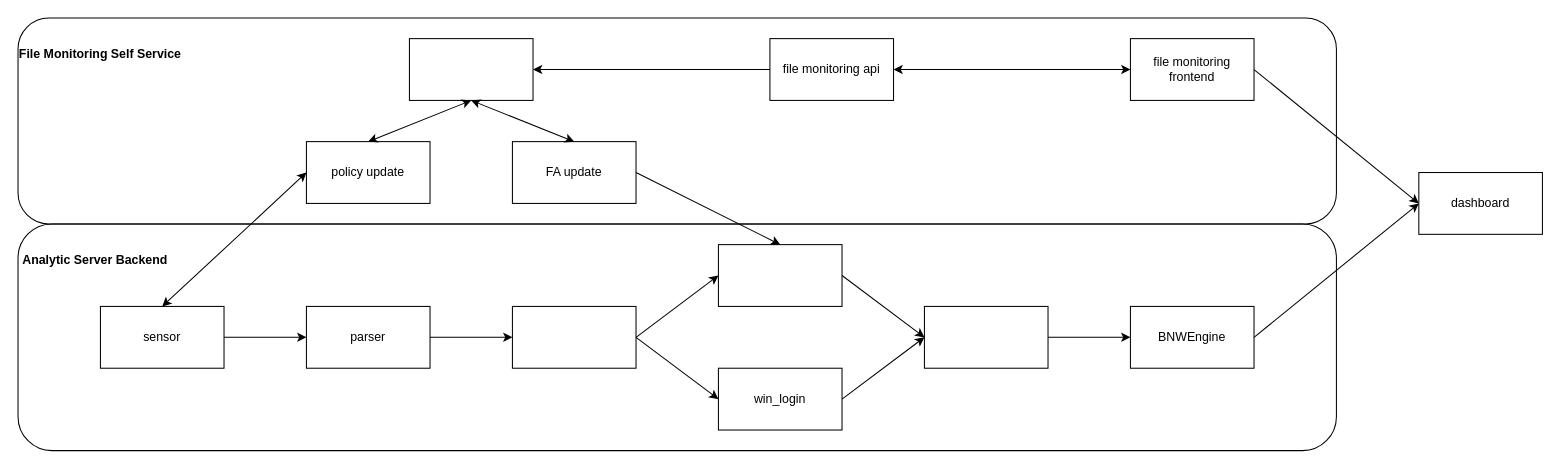
Image size: 1560x469. Some labels were removed from this diagram. Each missing label, with the box of its shape:
alerts worker: (923, 305, 1048, 368)
event_archiver: (511, 305, 636, 368)
file monitoring updater: (408, 38, 533, 100)
frequency_analysis: (717, 244, 842, 306)
